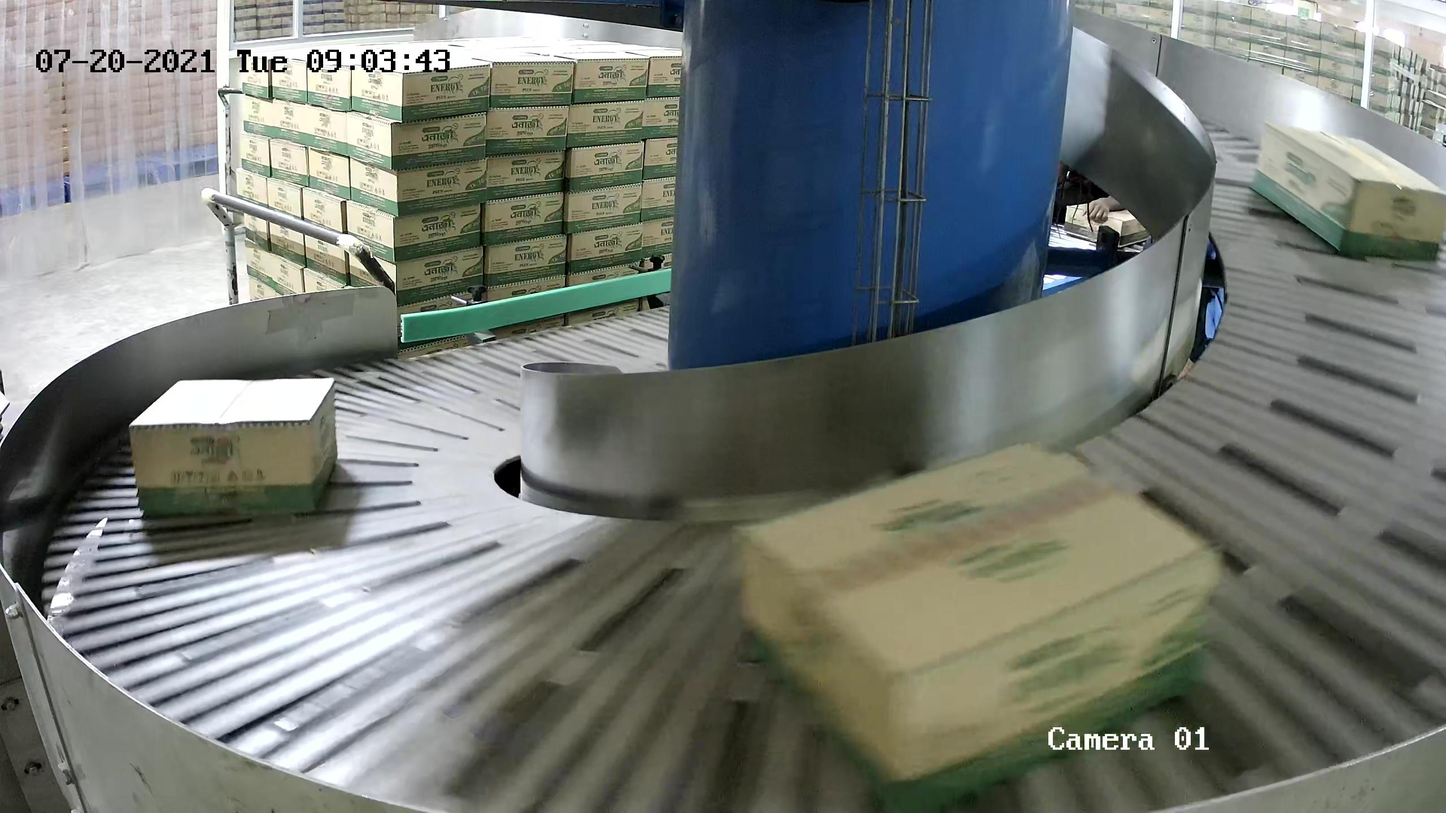Box: (733, 438, 1225, 812), (126, 376, 339, 519), (1249, 122, 1446, 267)
